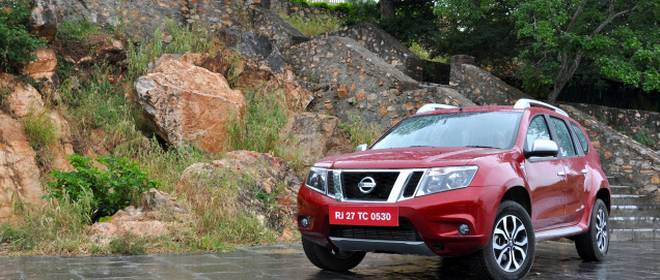number_plate: (327, 202, 404, 231)
